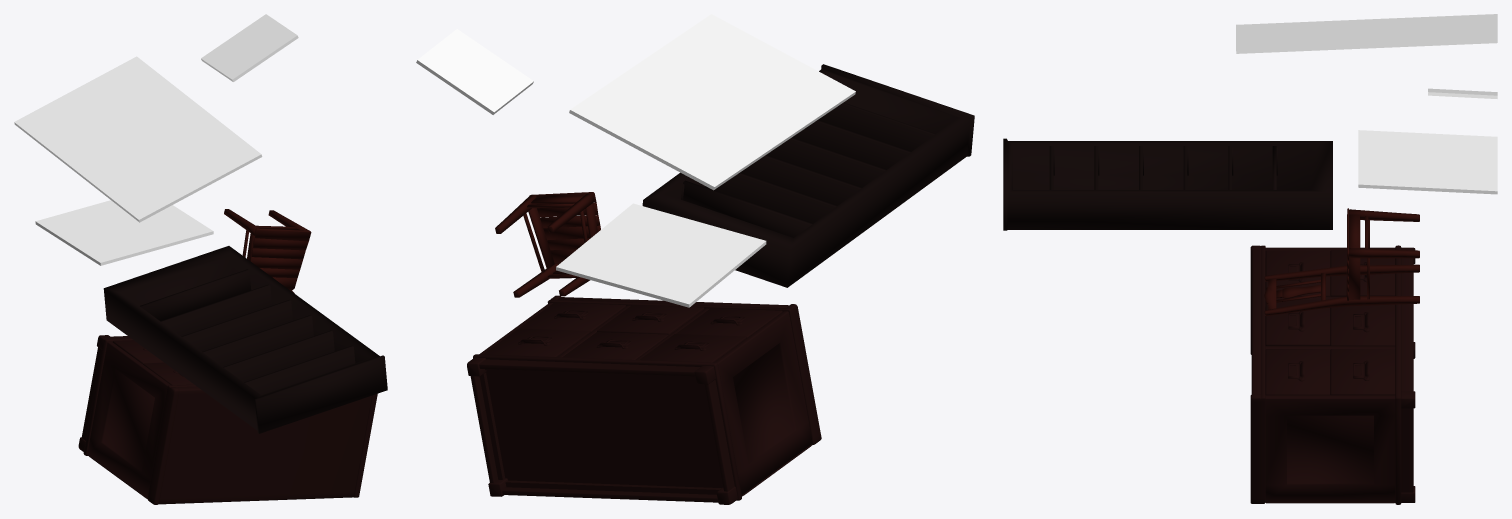
3 views of the same model, side by side, from view 1: azimuth 30°, elevation 25°; view 2: azimuth 150°, elevation 25°; view 3: azimuth 270°, elevation 25° (orthographic). The views are drawn at different scales.
Parts seen in each view (by area): view 1: diffuse_cabinet_01, diffuse_shelf_02, glass_door_03, glass_table_02, diffuse_chair_03, glass_partition_01; view 2: diffuse_cabinet_01, diffuse_shelf_02, glass_door_03, glass_table_02, diffuse_chair_03, glass_partition_01; view 3: diffuse_cabinet_01, diffuse_shelf_02, glass_table_02, glass_door_03, diffuse_chair_03.
Boxes of the visible parts, box(x1,y1,x2,y2) form: diffuse_cabinet_01: box(78, 335, 377, 504); diffuse_shelf_02: box(103, 246, 387, 433); glass_door_03: box(14, 56, 262, 222); glass_table_02: box(35, 200, 213, 265); diffuse_chair_03: box(224, 209, 311, 293); glass_partition_01: box(201, 14, 298, 81); diffuse_cabinet_01: box(467, 295, 821, 504); diffuse_shelf_02: box(642, 64, 974, 287); glass_door_03: box(569, 14, 855, 190); glass_table_02: box(556, 203, 766, 307); diffuse_chair_03: box(495, 192, 600, 297); glass_partition_01: box(416, 29, 533, 114); diffuse_cabinet_01: box(1250, 245, 1415, 504); diffuse_shelf_02: box(1003, 138, 1332, 230); glass_table_02: box(1358, 130, 1497, 194); glass_door_03: box(1236, 14, 1497, 53); diffuse_chair_03: box(1264, 208, 1419, 316).
Size of the model in its own units: 179 by 268 by 284.
